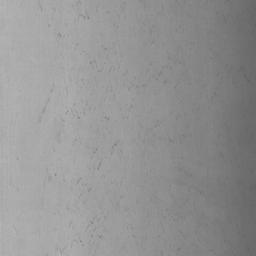Silk spot: (87, 216, 100, 238), (38, 106, 46, 123), (78, 11, 90, 20)
